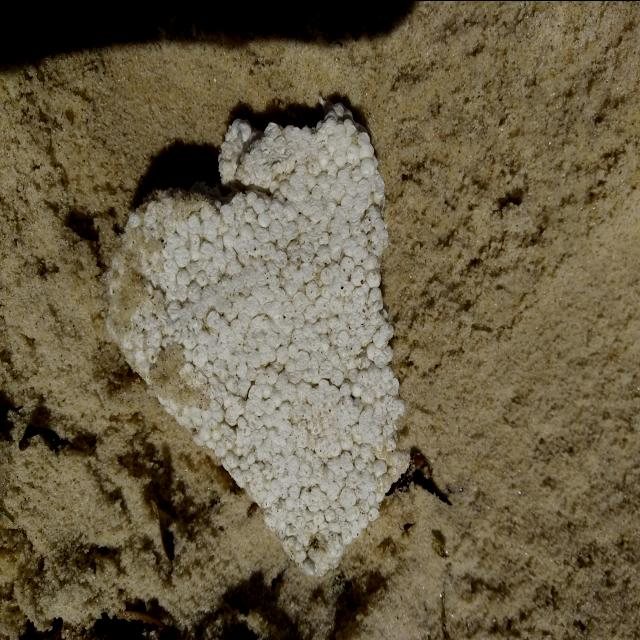Styrofoam piece: (108, 95, 411, 574)
